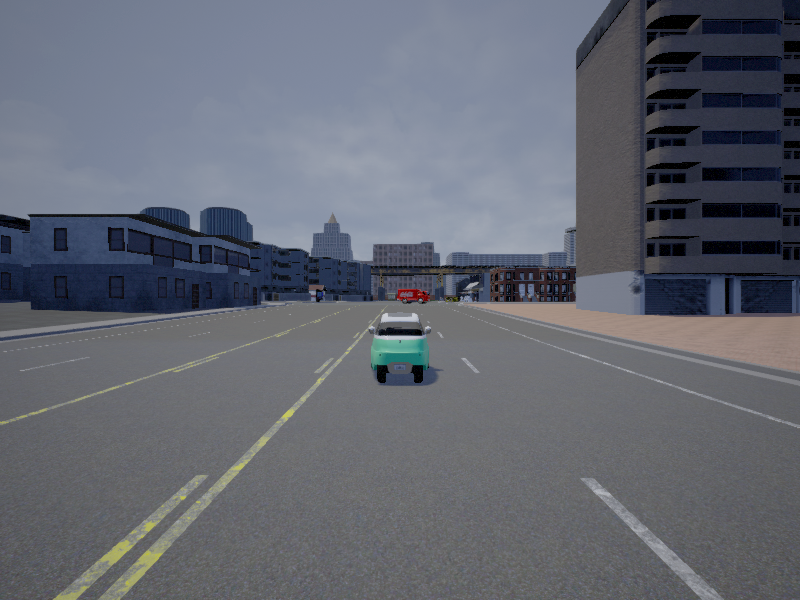Benign: (368, 311, 433, 385), (398, 289, 431, 304)
